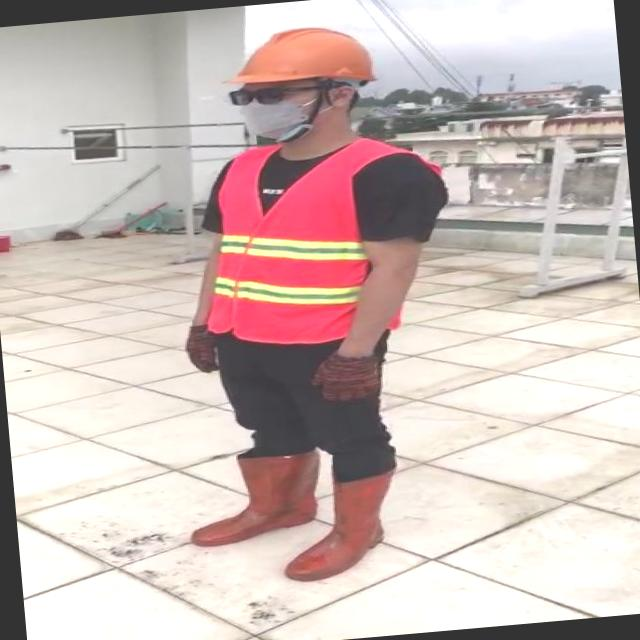boots: (270, 464, 404, 585), (184, 447, 330, 546)
helmet: (221, 15, 384, 99)
vest: (194, 126, 459, 352)
